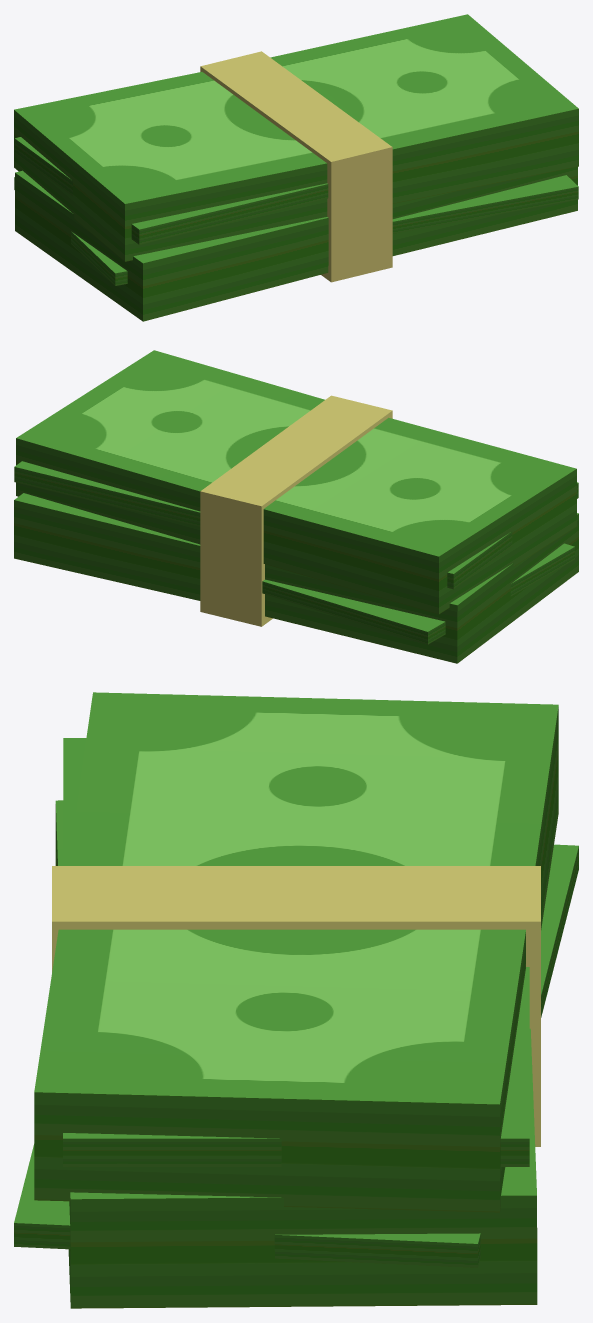
File: Money.fbx
The picture shows the model from 3 angles, top to bottom: view 1: azimuth 30°, elevation 25°; view 2: azimuth 150°, elevation 25°; view 3: azimuth 270°, elevation 25°; orthographic projection. The views are drawn at different scales.
Parts seen in each view (by area): view 1: pCube3, pCube1, pCube2, pCube5, pCube4; view 2: pCube3, pCube1, pCube2, pCube5, pCube4; view 3: pCube3, pCube1, pCube2, pCube5, pCube4.
Boxes of the visible parts, x1,y1,x2,y2 form: pCube3: (14,14,578,261); pCube1: (15,166,577,321); pCube2: (200,51,392,282); pCube5: (14,175,578,285); pCube4: (14,137,328,244); pCube3: (16,350,576,614); pCube1: (14,493,578,663); pCube2: (200,395,392,626); pCube5: (262,543,574,644); pCube4: (14,461,578,589); pCube3: (34,692,558,1212); pCube1: (55,800,537,1308); pCube2: (52,866,540,1146); pCube5: (14,844,578,1267); pCube4: (63,738,529,1166).
Size of the model in its own units: 6.65 by 1.67 by 3.79.
Materials: 1 (1 with a texture image).
